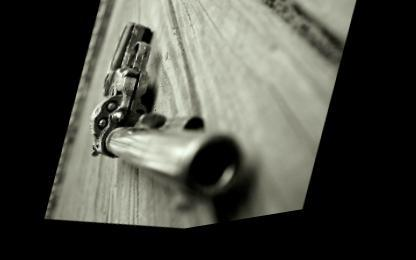pistol: (70, 1, 282, 234)
